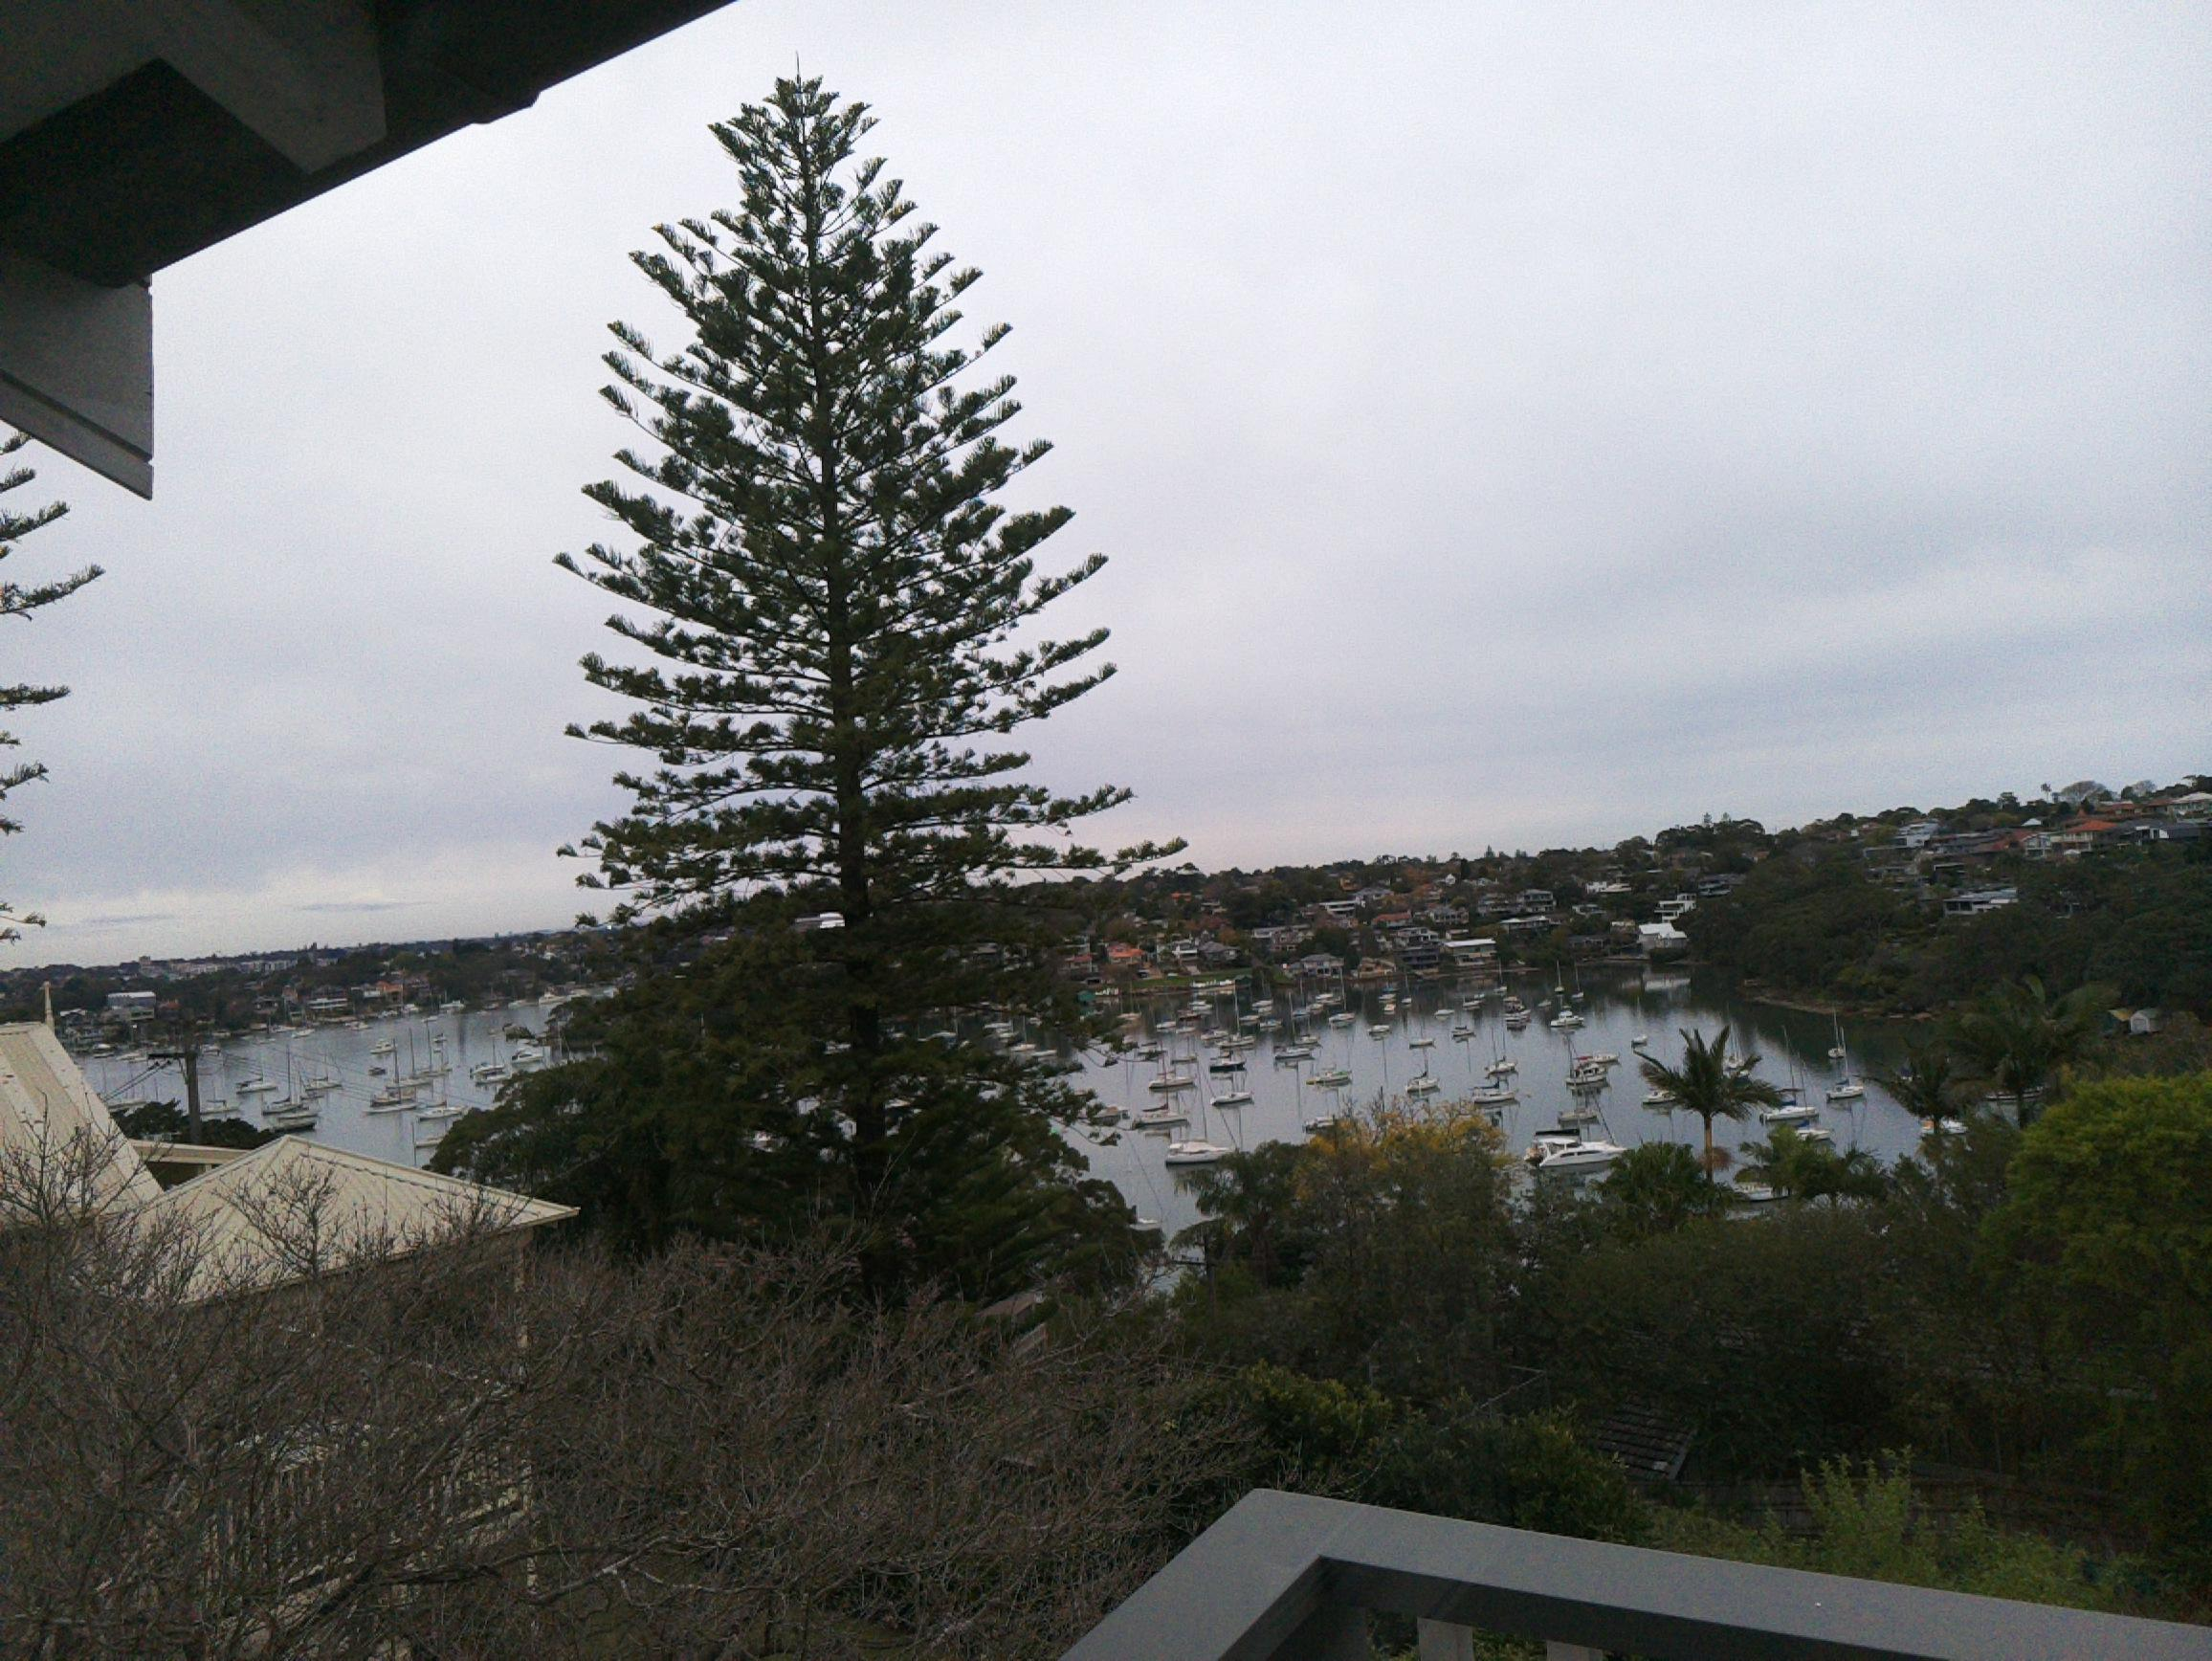boat: (1512, 1127, 1631, 1176), (1165, 1134, 1249, 1172), (1633, 1078, 1708, 1111), (1755, 1099, 1828, 1131), (1123, 1213, 1183, 1249), (1296, 1110, 1364, 1139), (1823, 1082, 1886, 1111), (1549, 1097, 1608, 1129), (1207, 1052, 1266, 1082), (267, 1110, 330, 1138), (1127, 1104, 1193, 1131), (1465, 1085, 1532, 1111), (1300, 1064, 1359, 1092), (1561, 1063, 1615, 1092), (377, 1068, 441, 1092), (1563, 1042, 1622, 1066), (1087, 1094, 1136, 1124), (349, 1099, 424, 1118), (1917, 1113, 1971, 1139), (1396, 1073, 1453, 1097), (298, 1070, 351, 1096), (188, 1096, 241, 1120), (401, 1131, 462, 1152), (1143, 1073, 1202, 1094), (1205, 1090, 1260, 1113), (468, 1064, 511, 1092), (412, 1099, 464, 1122), (232, 1075, 283, 1097), (1324, 1008, 1368, 1035), (1542, 1010, 1589, 1033), (1270, 1047, 1322, 1066), (415, 1056, 459, 1078), (363, 1033, 403, 1057), (1479, 1059, 1528, 1078), (1396, 1035, 1446, 1052), (1499, 1012, 1533, 1035), (508, 1047, 548, 1066), (1287, 1029, 1324, 1050), (1209, 1031, 1263, 1045), (1235, 1007, 1265, 1031), (1448, 1022, 1479, 1045), (87, 1040, 117, 1063), (192, 1042, 227, 1061), (1165, 1049, 1200, 1068), (1457, 995, 1490, 1014), (1251, 995, 1284, 1014), (1134, 1040, 1167, 1059), (1629, 1031, 1657, 1054), (1368, 1021, 1396, 1043), (1198, 1029, 1237, 1045), (1029, 1043, 1061, 1063), (344, 1019, 377, 1036), (1185, 998, 1218, 1015), (290, 1026, 326, 1042), (1826, 1043, 1853, 1064), (534, 989, 563, 1007), (1258, 1012, 1284, 1031), (504, 996, 530, 1015), (1371, 989, 1403, 1005), (251, 1033, 279, 1050), (1287, 1008, 1315, 1026), (1169, 1022, 1198, 1038), (1314, 993, 1347, 1007), (1504, 996, 1530, 1014), (1153, 1017, 1179, 1035), (982, 1022, 1026, 1033), (427, 1029, 455, 1045), (113, 1049, 141, 1064), (1430, 1007, 1462, 1021), (209, 1026, 239, 1040), (1397, 996, 1425, 1010), (1490, 986, 1516, 1000), (1007, 1043, 1041, 1054), (422, 1012, 447, 1026), (1535, 995, 1558, 1008), (1382, 1000, 1404, 1012), (993, 1035, 1024, 1043), (1027, 1015, 1047, 1029), (1218, 977, 1237, 991), (1568, 989, 1589, 1000), (480, 1003, 502, 1012), (1554, 986, 1570, 995)
